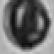correct: (0, 0, 50, 50)
